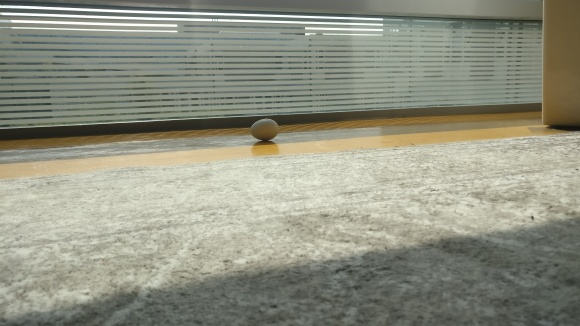egg: (249, 117, 279, 141)
